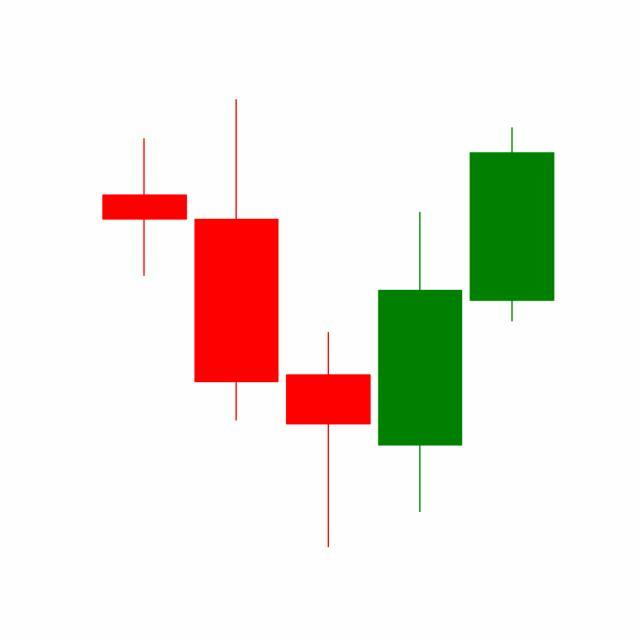Three Outside Up-Down: (280, 123, 555, 548)
